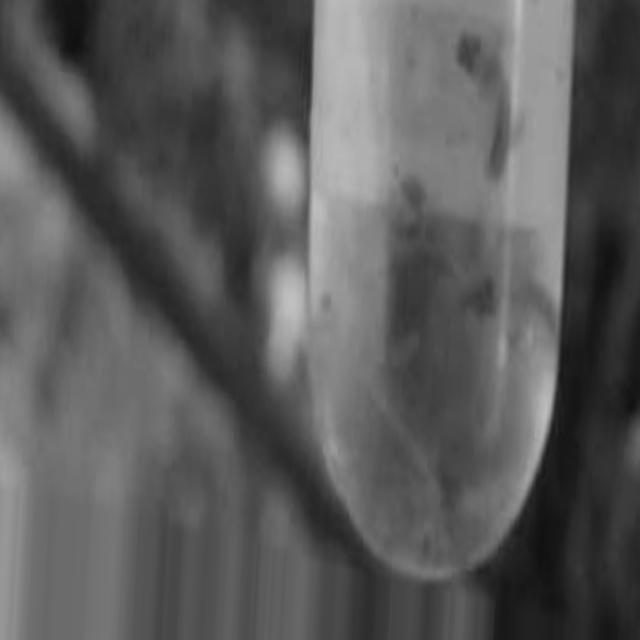larvas: (463, 30, 506, 174), (350, 237, 455, 283), (502, 283, 548, 341), (387, 177, 430, 239)
